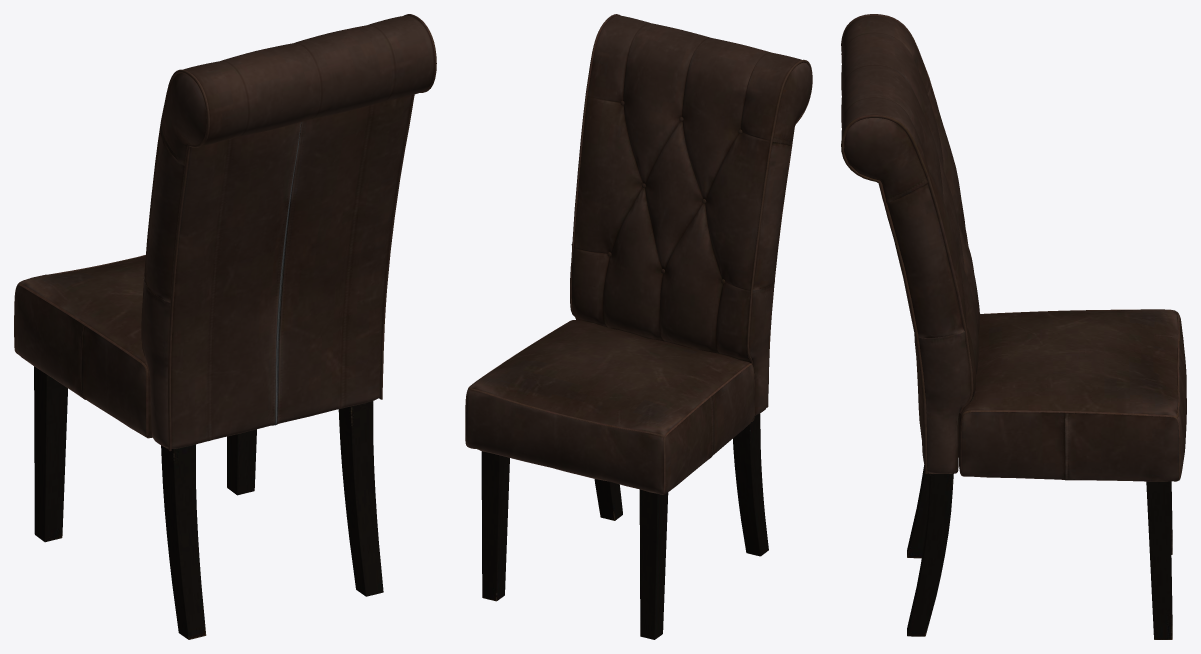
File: dining-chair.glb
The picture shows the model from 3 angles, left to right: view 1: azimuth 30°, elevation 25°; view 2: azimuth 150°, elevation 25°; view 3: azimuth 270°, elevation 25°; orthographic projection. The views are drawn at different scales.
Visible parts, largest first — view 1: dining_chair_02; view 2: dining_chair_02; view 3: dining_chair_02.
Boxes of the visible parts, x1=… form: dining_chair_02: x1=14, y1=14, x2=436, y2=639; dining_chair_02: x1=465, y1=14, x2=812, y2=639; dining_chair_02: x1=841, y1=14, x2=1186, y2=639.
Size of the model in its own units: 0.4336 by 0.9734 by 0.5764.
Materials: 1 (1 with a texture image).
